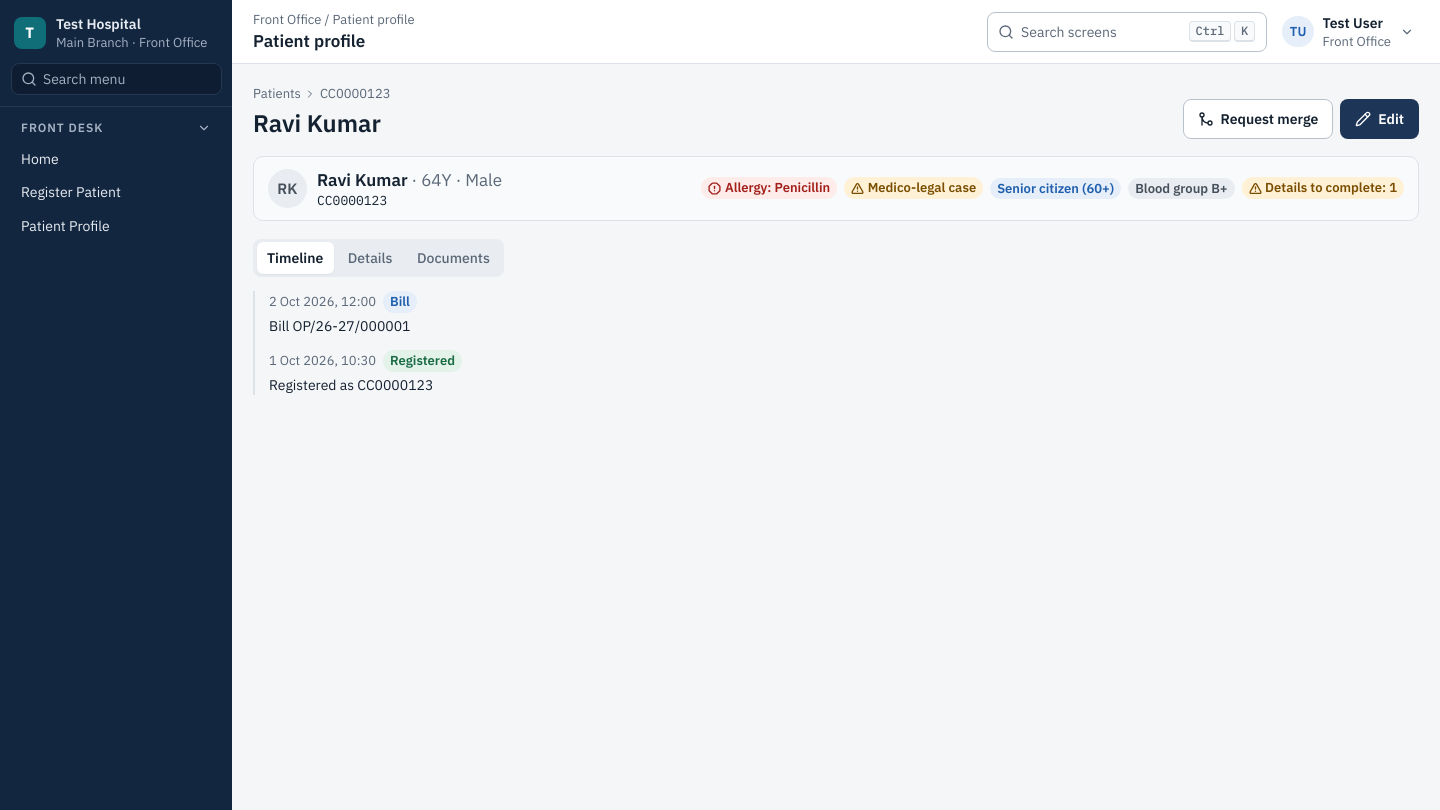
Patient profile › shows the banner, flags and the timeline in IST, tabs in the URL
Expected: the element named "Patient: Ravi Kumar" shows "64Y", top-left (421, 168), bottom-right (452, 190)
Expected: the element named "Patient: Ravi Kumar" shows "CC0000123", top-left (317, 192), bottom-right (387, 208)
Click the tab "Details": (370, 258) top-left (337, 242), bottom-right (403, 274)
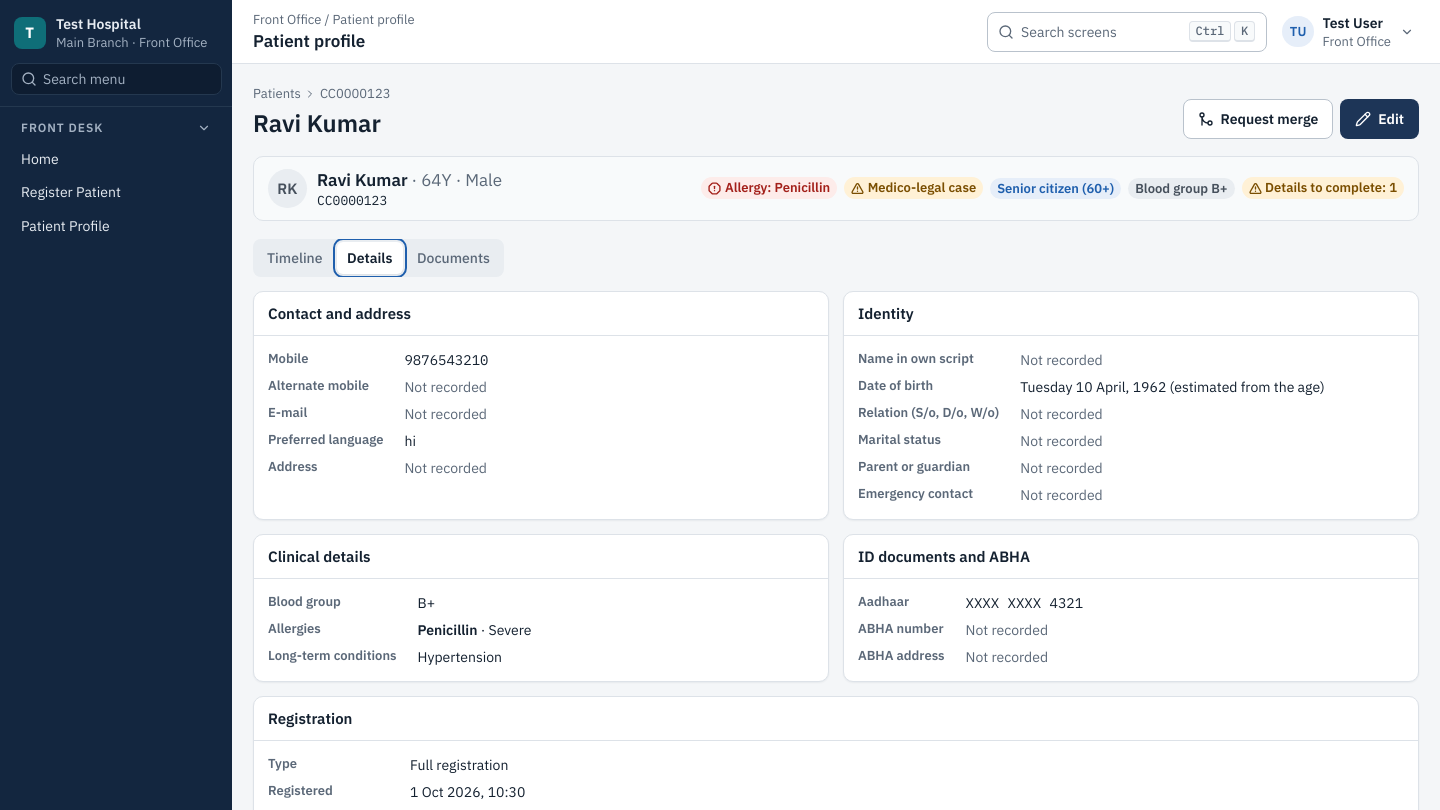
Expected: the text "XXXX XXXX 4321" is shown, top-left (966, 594), bottom-right (1083, 612)
